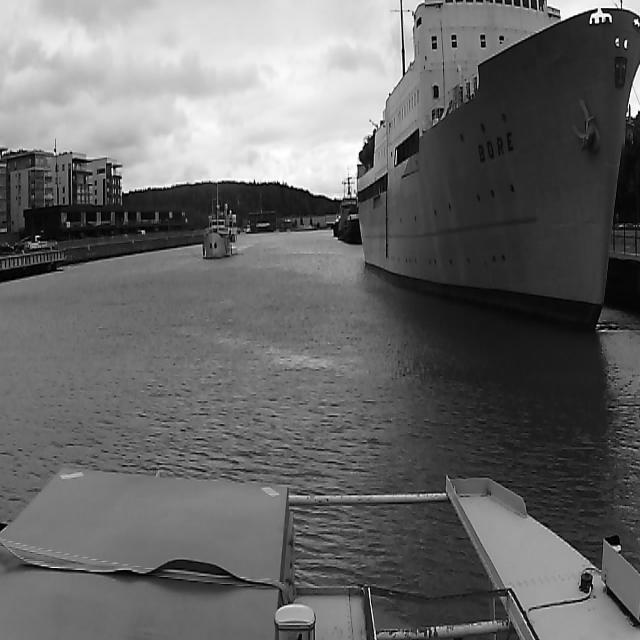ship: (356, 0, 640, 335), (198, 200, 242, 263), (338, 167, 356, 246)
